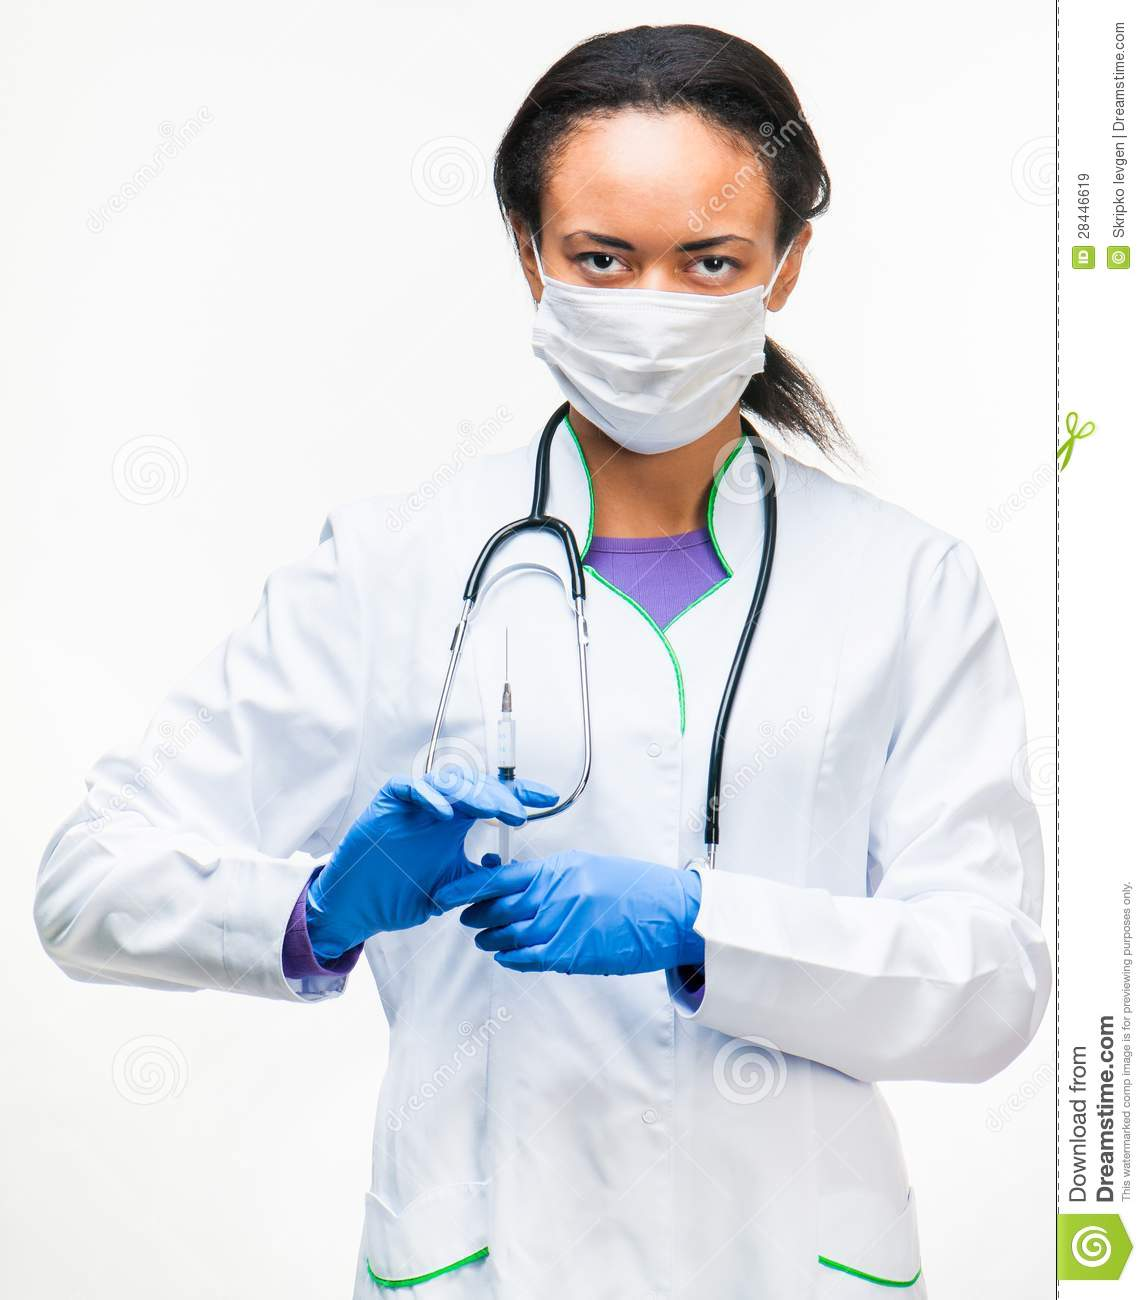mask: (535, 275, 759, 443)
